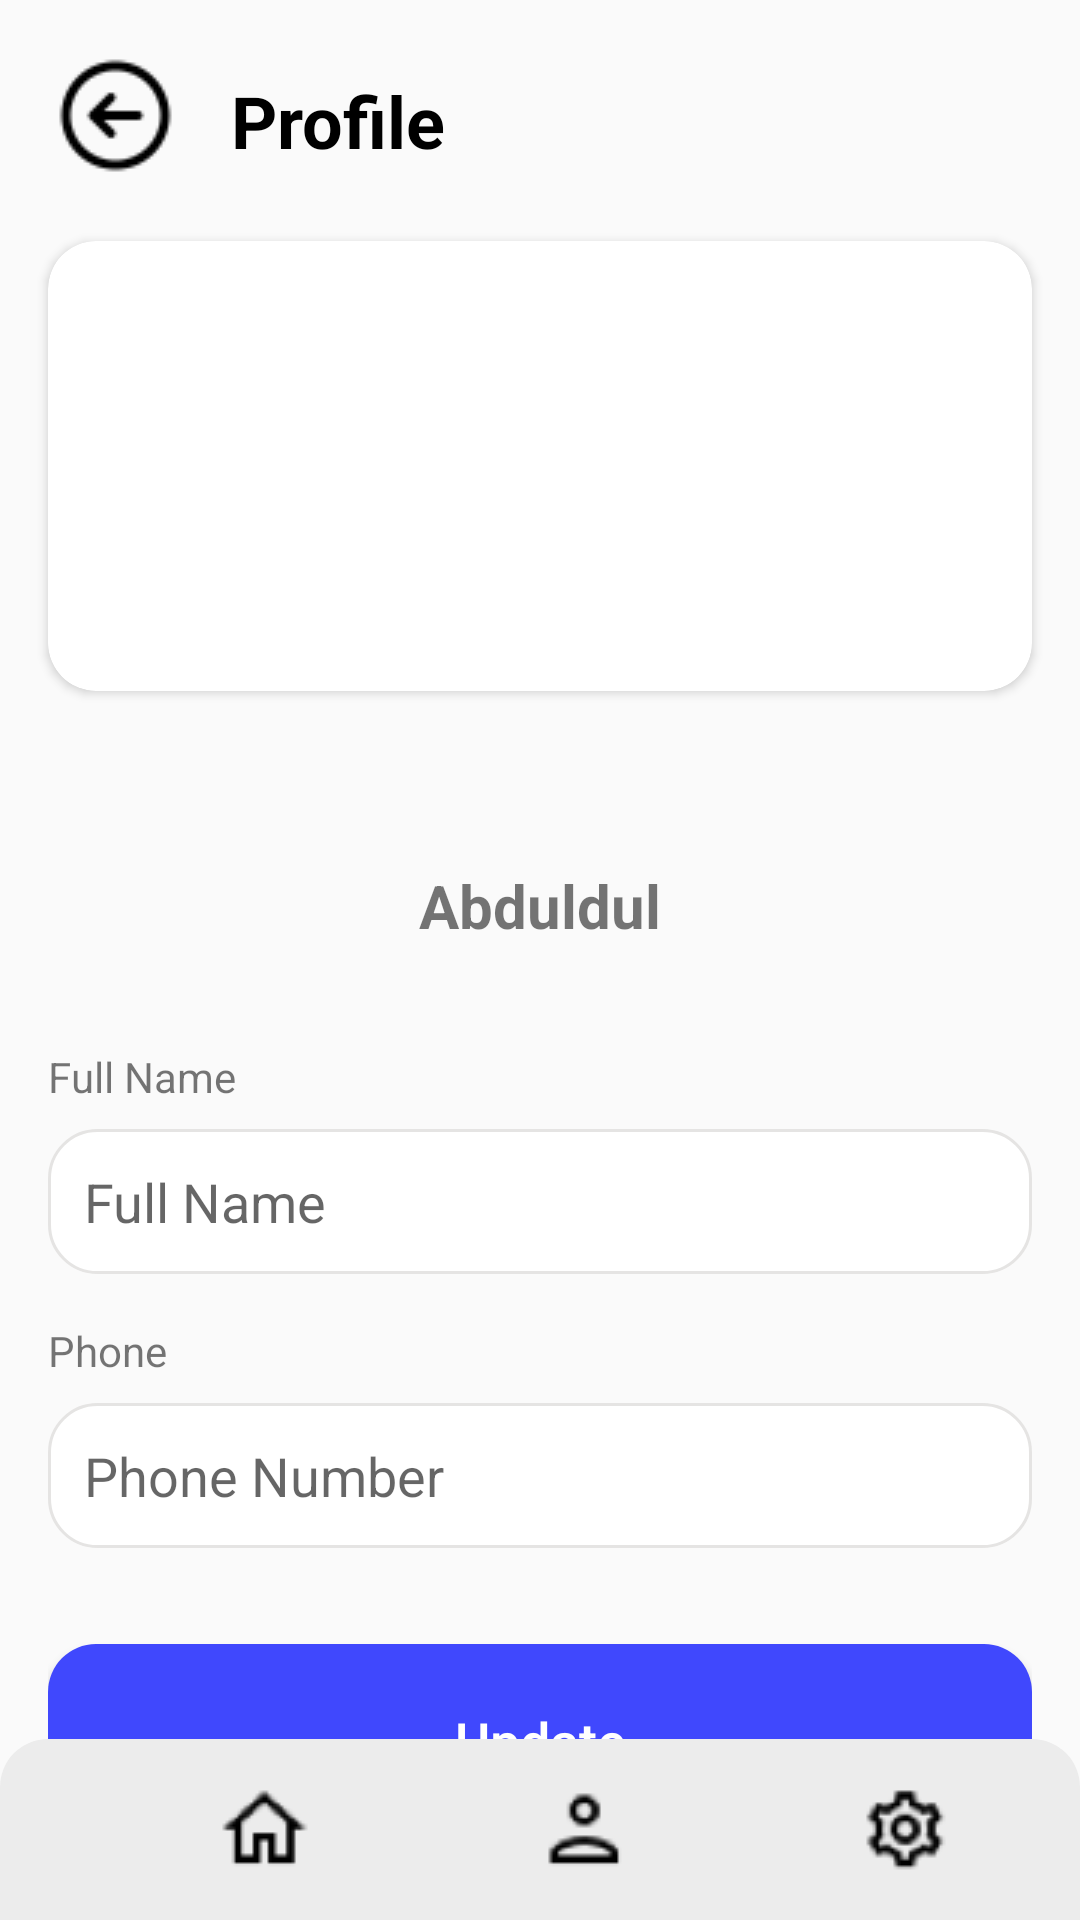

Where icons sit on this 1080×1920 app screen, as rect(x1, y1, x2, y2):
back arrow: rect(59, 59, 172, 172)
custom account controller: rect(548, 1793, 619, 1864)
custom home controller: rect(222, 1790, 307, 1864)
custom setting controller: rect(866, 1790, 943, 1869)
